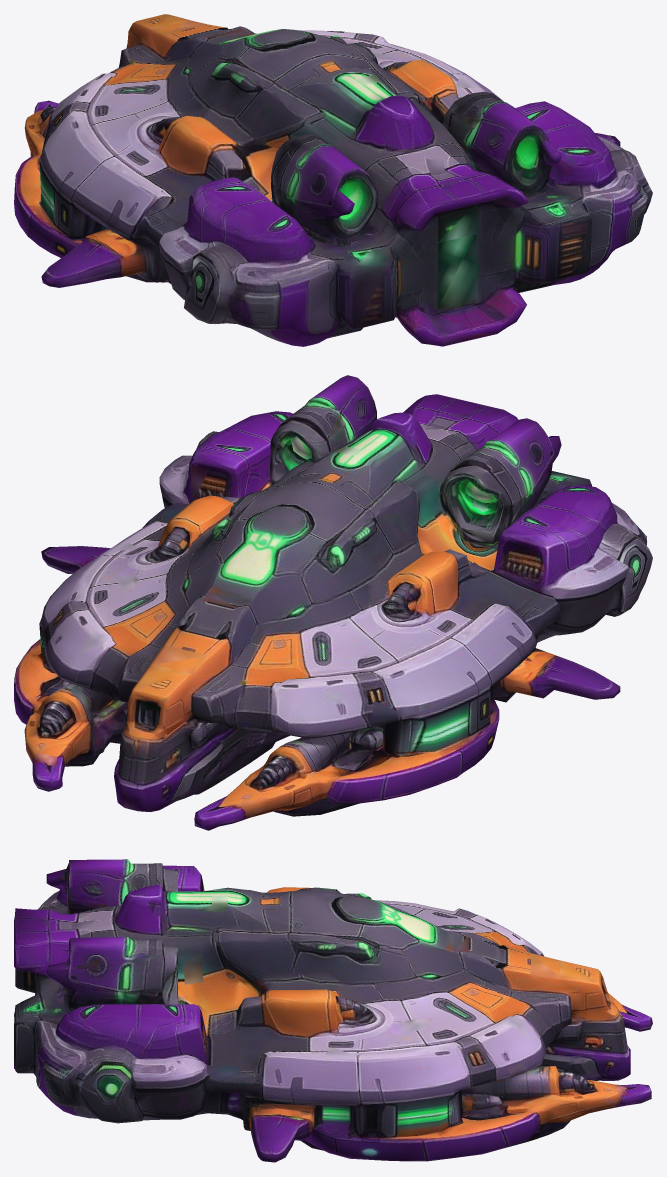
File: havok.glb
3 renders of one model, top to bottom at view 1: azimuth 30°, elevation 25°; view 2: azimuth 150°, elevation 25°; view 3: azimuth 270°, elevation 25°, orthographic. The views are drawn at different scales.
Visible parts, largest first — view 1: Mesh_0.019; view 2: Mesh_0.019; view 3: Mesh_0.019.
Part boxes in pixels (x1,y1,x2,y2): Mesh_0.019: (14, 14, 652, 346); Mesh_0.019: (14, 375, 652, 830); Mesh_0.019: (14, 859, 652, 1162).
Bounding box in the file's own units: 1.8 × 0.6279 × 1.91.
1 material, 1 textured.
